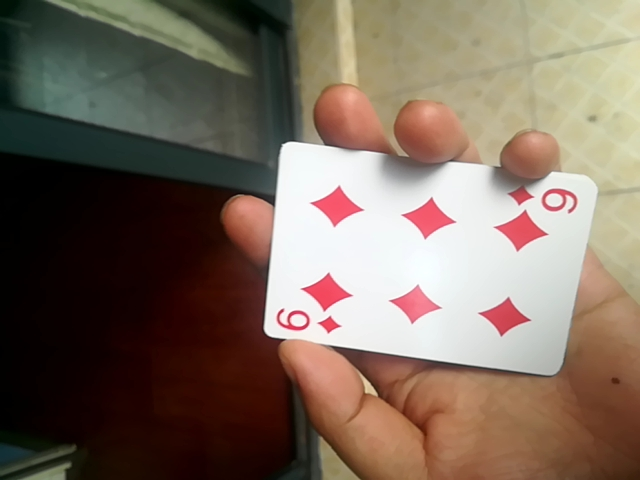fk 6: (264, 146, 607, 385)
